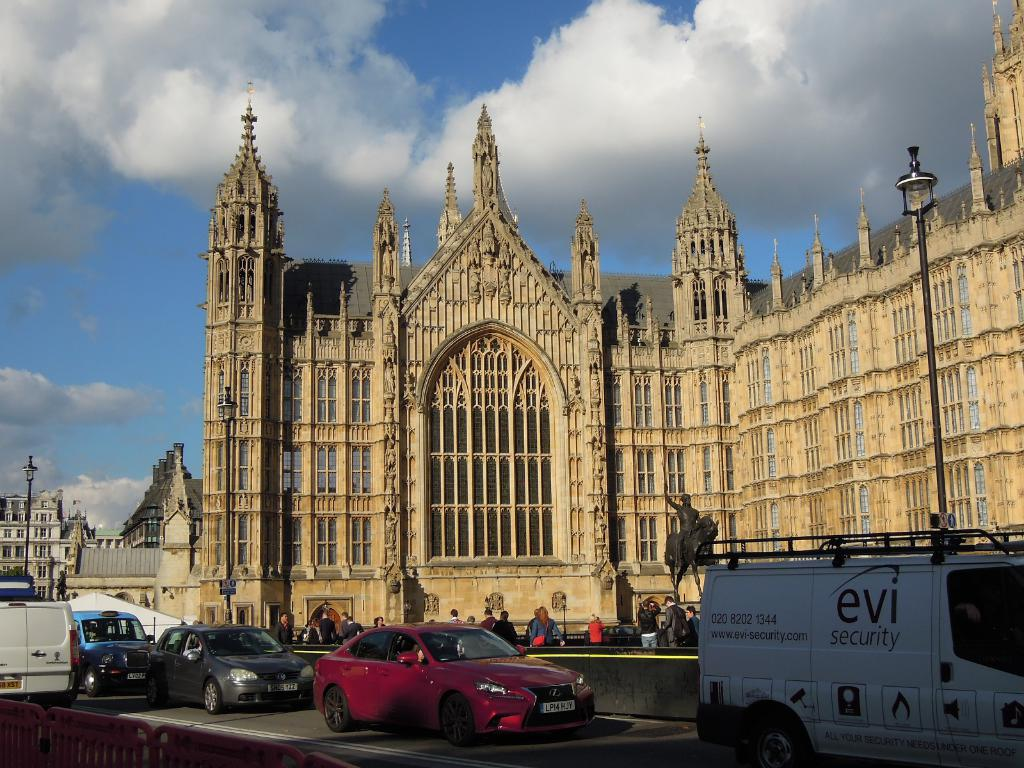Car: (295, 631, 584, 747), (139, 616, 315, 714)
